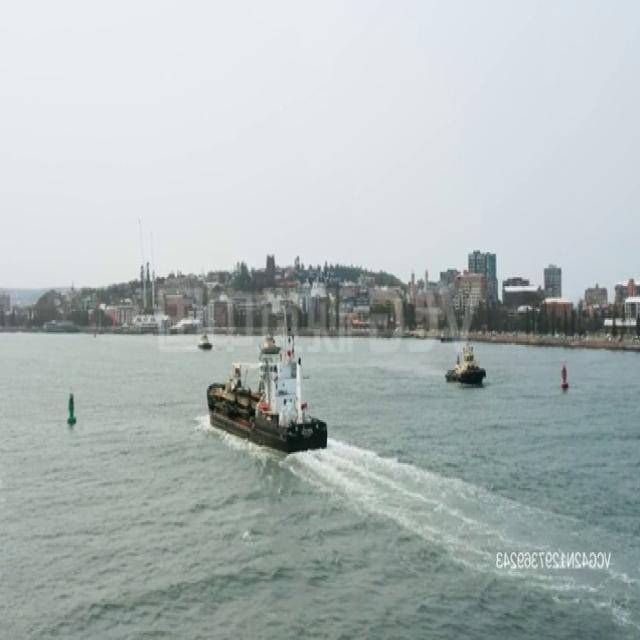houseboat: (208, 332, 330, 457), (442, 338, 486, 384), (258, 334, 280, 354), (196, 329, 214, 351)
